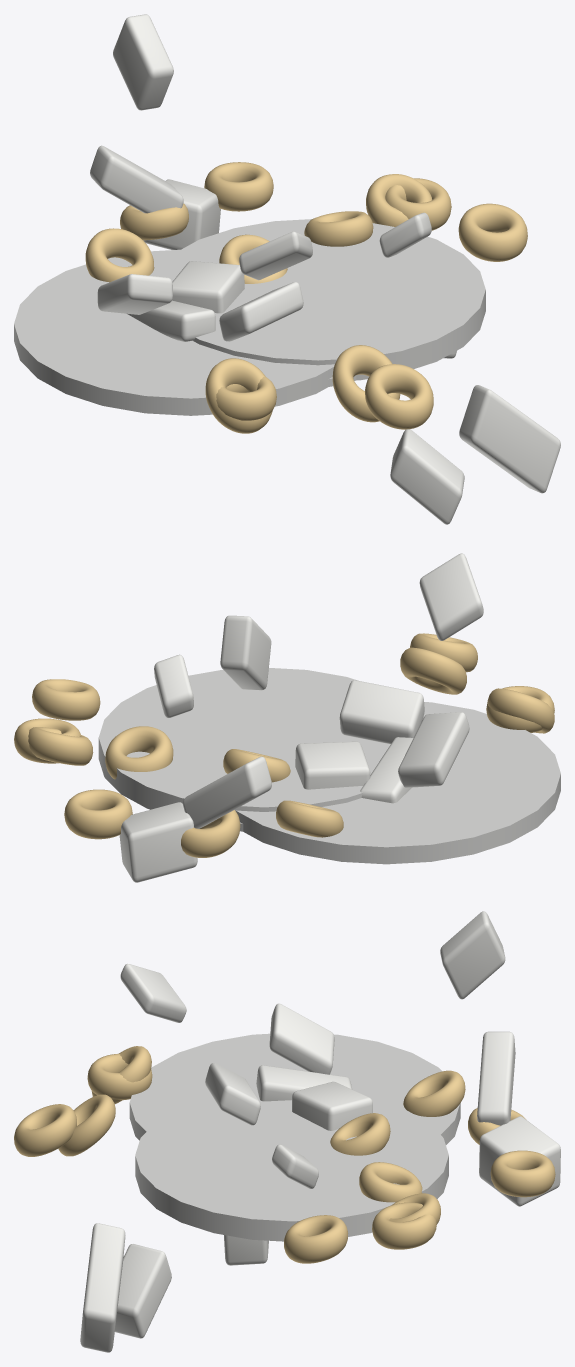
The model's file is cereal_bowl_dead.glb.
3 views of the same model, one above another, from view 1: azimuth 30°, elevation 25°; view 2: azimuth 150°, elevation 25°; view 3: azimuth 270°, elevation 25° (orthographic). The views are drawn at different scales.
Visible parts, largest first — view 1: Cylinder.009, Cylinder.008, Cube.012, Cube.017, Cube.023, Torus.023, Cube.014, Torus.019, Cube.018, Torus.014, Torus.015, Cube.015 (+13 smaller); view 2: Cylinder.008, Cylinder.009, Cube.022, Cube.015, Cube.013, Cube.016, Cube.014, Cube.018, Cube.023, Torus.015, Torus.022, Torus.019 (+11 smaller); view 3: Cylinder.009, Cylinder.008, Cube.012, Cube.017, Cube.023, Cube.013, Cube.014, Cube.022, Cube.018, Torus.015, Torus.019, Torus.023 (+14 smaller).
Part boxes in pixels (<box>): Cylinder.009: <box>154,219,485,380</box>; Cylinder.008: <box>14,249,334,415</box>; Cube.012: <box>459,385,560,493</box>; Cube.017: <box>390,429,464,524</box>; Cube.023: <box>113,14,173,110</box>; Torus.023: <box>365,364,433,429</box>; Cube.014: <box>90,145,183,213</box>; Torus.019: <box>458,203,527,261</box>; Cube.018: <box>172,261,244,313</box>; Torus.014: <box>85,228,154,282</box>; Torus.015: <box>204,162,273,211</box>; Cube.015: <box>219,282,303,341</box>; Cylinder.008: <box>236,702,560,864</box>; Cylinder.009: <box>98,668,422,811</box>; Cube.022: <box>119,802,197,882</box>; Cube.015: <box>339,680,424,743</box>; Cube.013: <box>398,712,469,787</box>; Cube.016: <box>419,553,483,640</box>; Cube.014: <box>183,756,271,828</box>; Cube.018: <box>295,741,370,789</box>; Cube.023: <box>220,615,271,690</box>; Torus.015: <box>64,789,132,839</box>; Torus.022: <box>105,726,173,779</box>; Torus.019: <box>32,679,100,720</box>; Cylinder.009: <box>135,1090,448,1241</box>; Cylinder.008: <box>129,1033,460,1144</box>; Cube.012: <box>80,1223,125,1352</box>; Cube.017: <box>115,1244,171,1338</box>; Cube.023: <box>440,911,505,999</box>; Cube.013: <box>269,1003,334,1074</box>; Cube.014: <box>477,1031,515,1125</box>; Cube.022: <box>479,1116,560,1206</box>; Cube.018: <box>292,1081,372,1130</box>; Torus.015: <box>490,1150,555,1197</box>; Torus.019: <box>284,1215,348,1263</box>; Torus.023: <box>14,1104,76,1156</box>.
Size of the model in its own units: 3.3 by 2.48 by 3.37.
